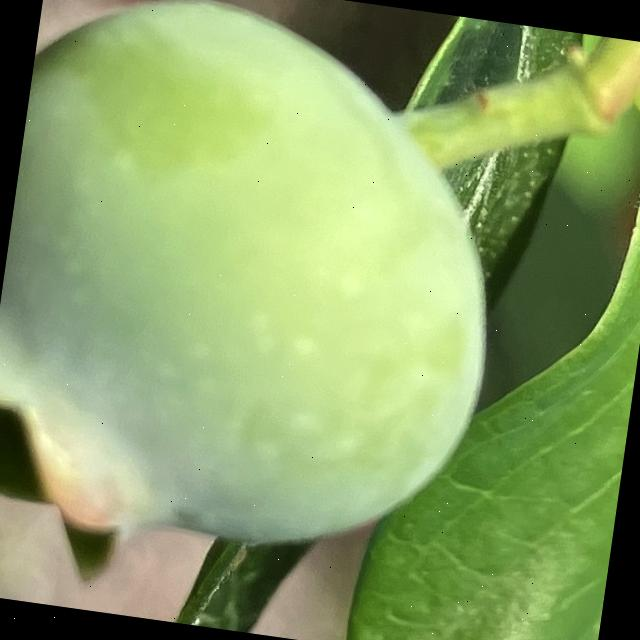Blueberries: (0, 0, 536, 636)
